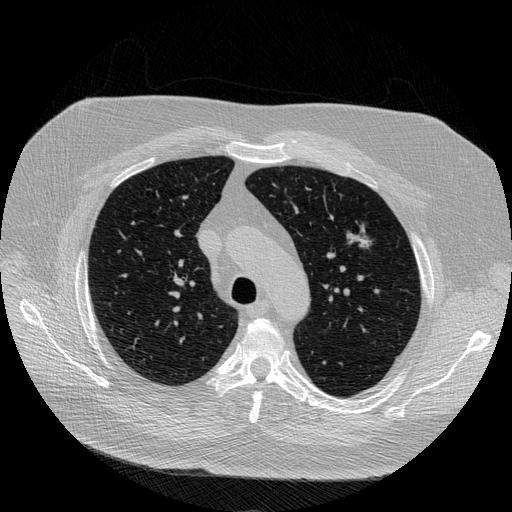nodule: (349, 227, 374, 252)
